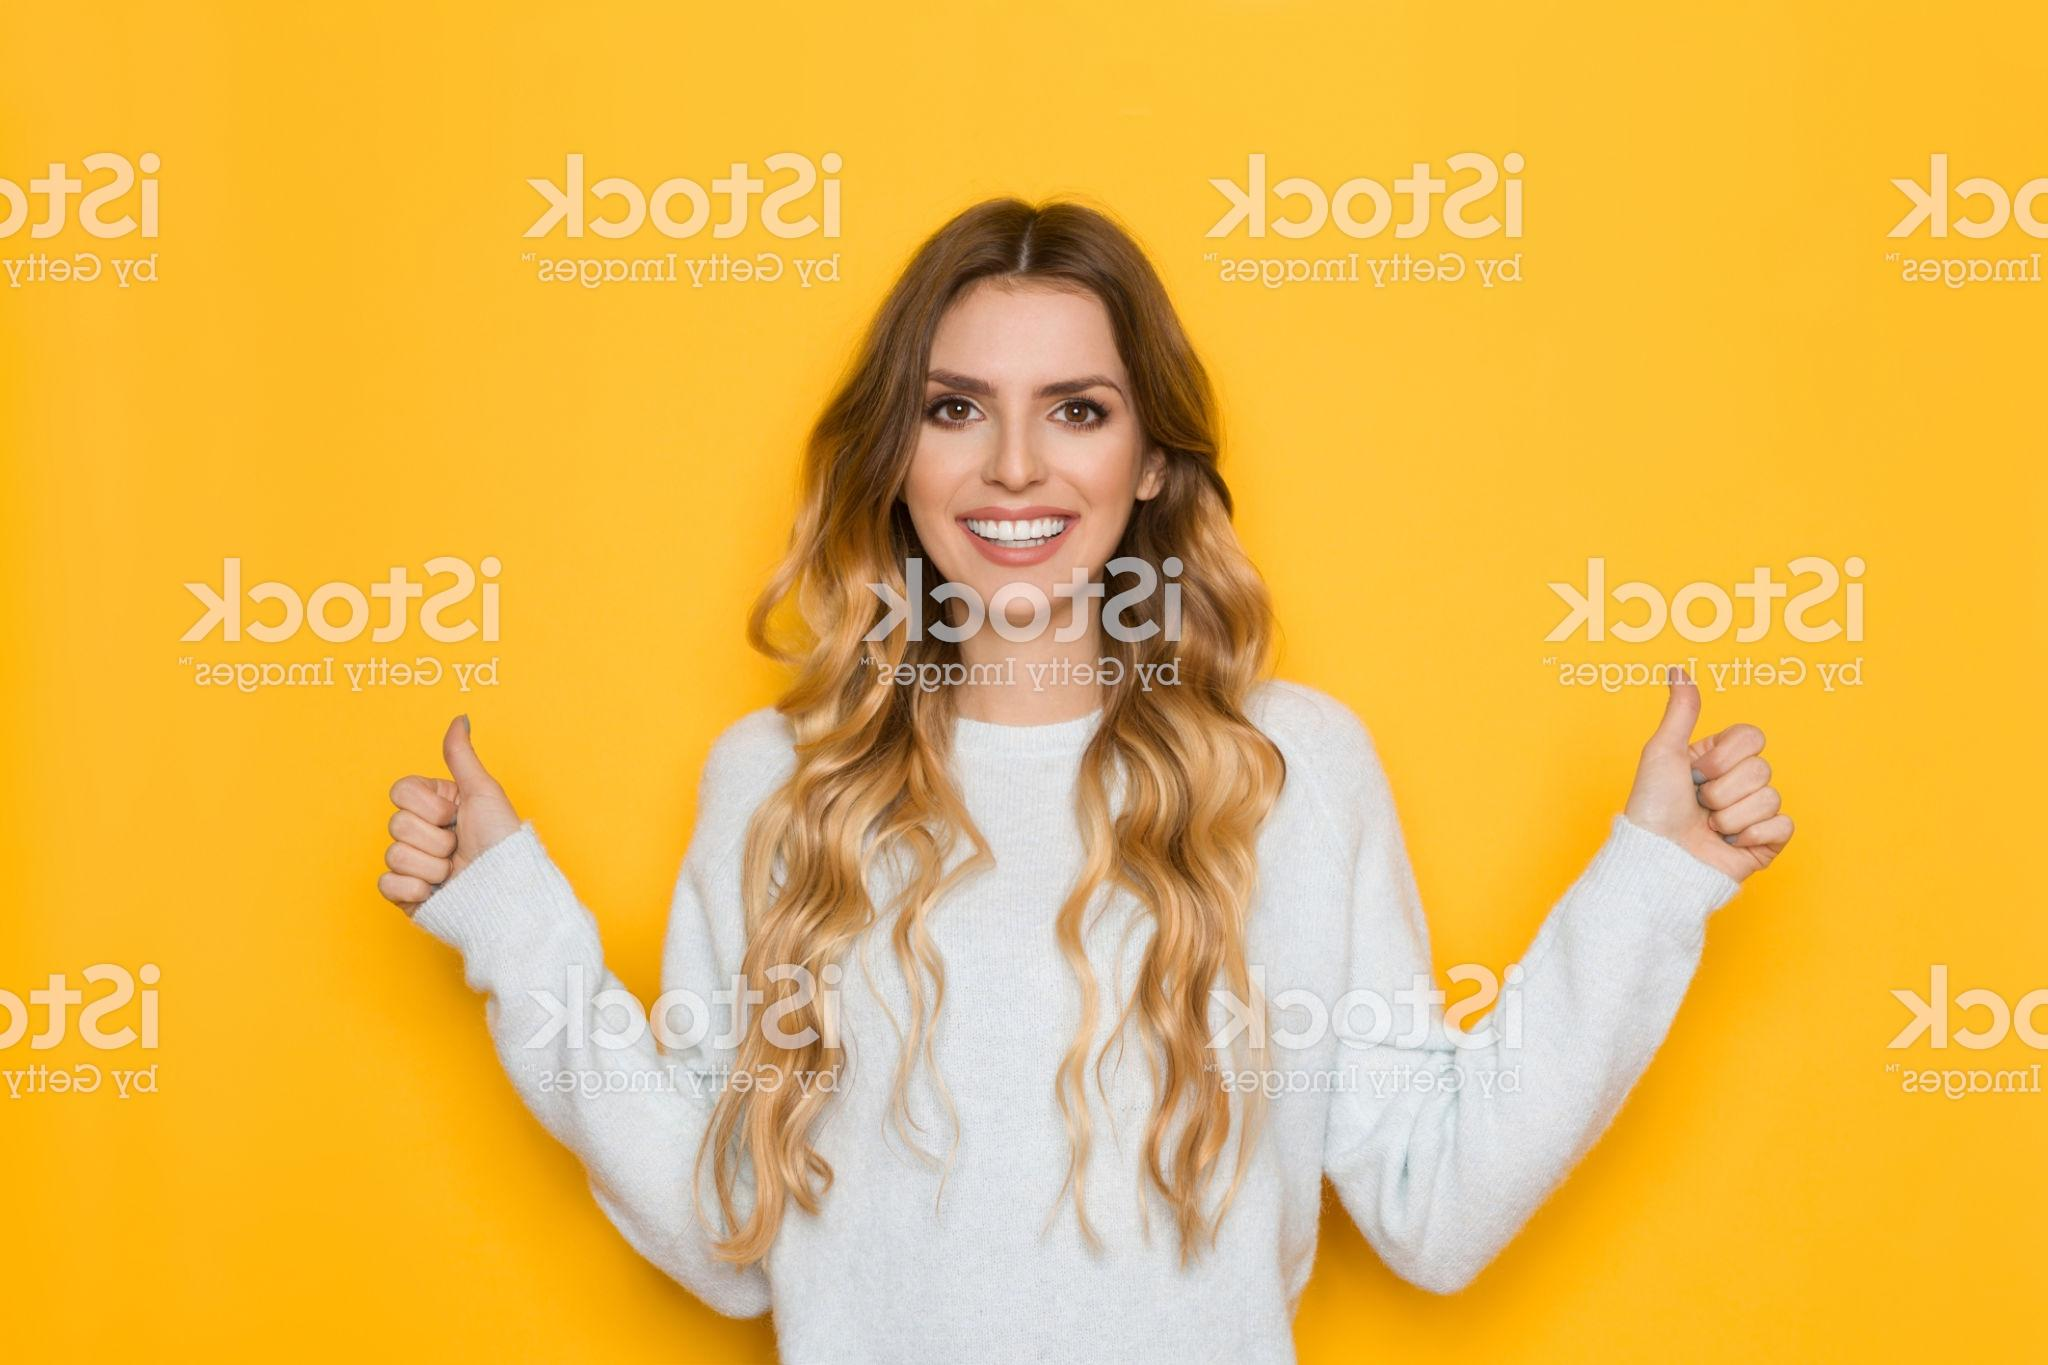thumbsup: (1644, 663, 1797, 881), (375, 710, 521, 916)
